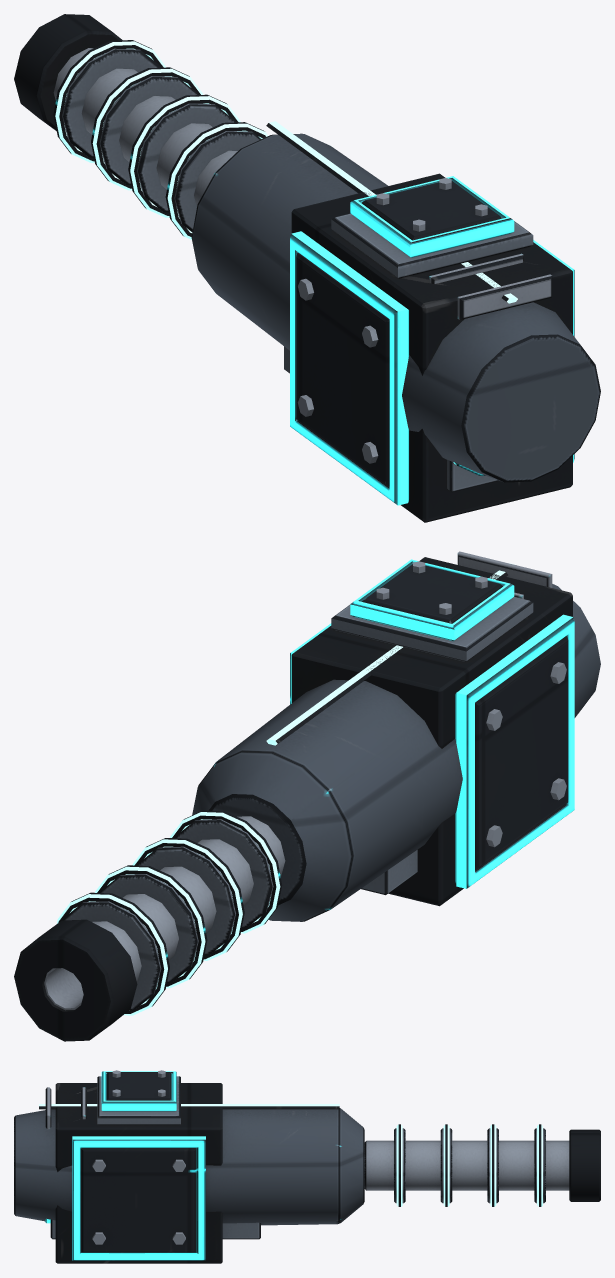
File: laser_pesado_t3.fbx
3 views of the same model, one above another, from view 1: azimuth 30°, elevation 25°; view 2: azimuth 150°, elevation 25°; view 3: azimuth 270°, elevation 25° (orthographic). The views are drawn at different scales.
Visible parts, largest first — view 1: laser_pesado_t3, laser_pesado_t3_neon; view 2: laser_pesado_t3, laser_pesado_t3_neon; view 3: laser_pesado_t3, laser_pesado_t3_neon.
Boxes of the visible parts, <box> form: laser_pesado_t3: <box>14,14,600,522</box>; laser_pesado_t3_neon: <box>55,41,517,303</box>; laser_pesado_t3: <box>14,551,600,1041</box>; laser_pesado_t3_neon: <box>57,563,515,1015</box>; laser_pesado_t3: <box>14,1070,600,1263</box>; laser_pesado_t3_neon: <box>39,1104,542,1206</box>.
Bounding box in the file's own units: 1.68 × 2.11 × 7.03.
